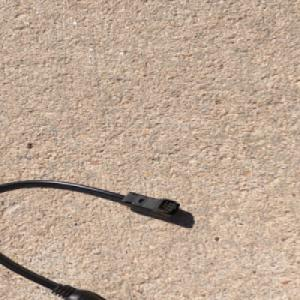Wire: (0, 179, 183, 300)
